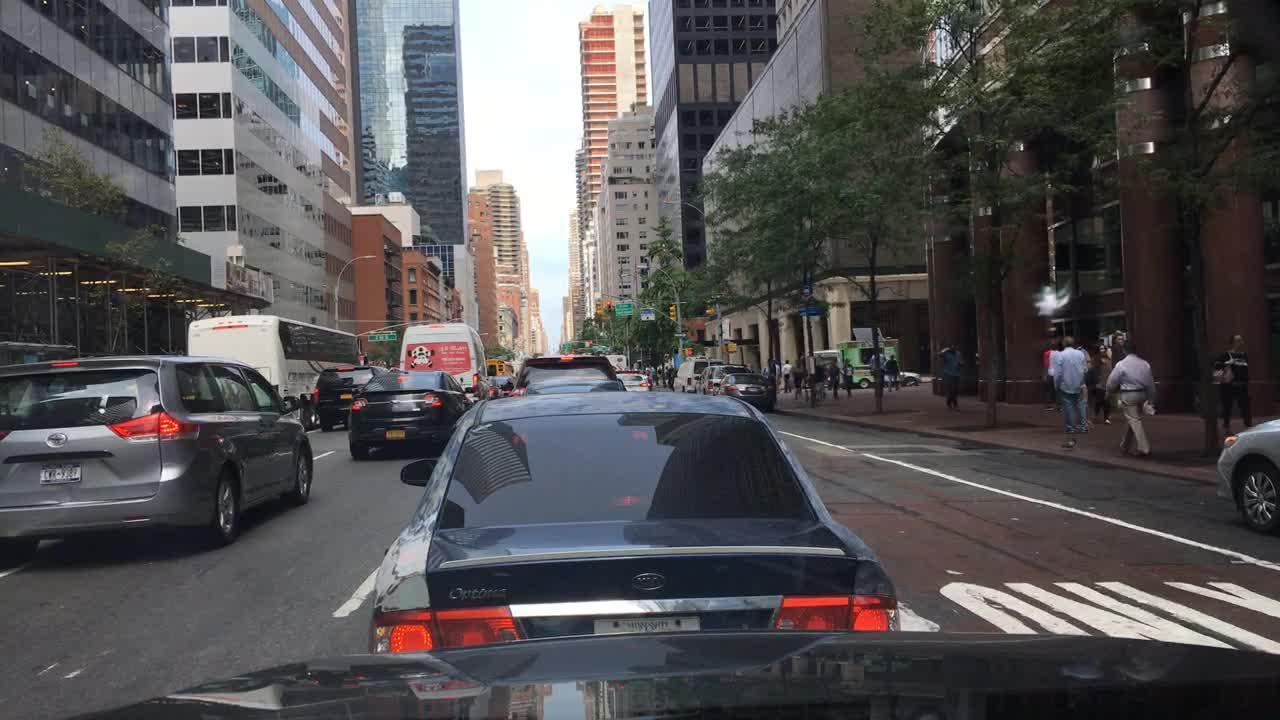kia: (630, 572, 670, 593)
